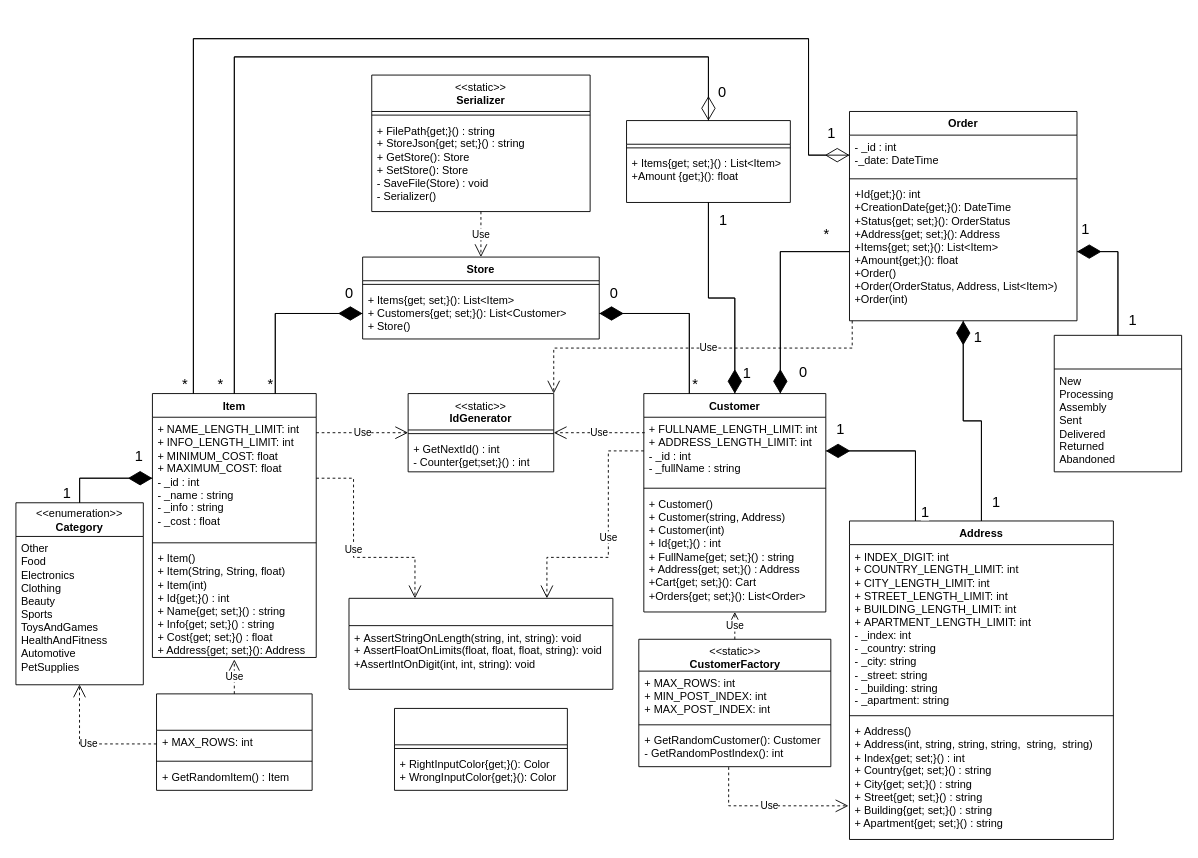
This 1198x858 diagram has some shape labels left out. Each missing label, with the box of its shape:
<<enumeration>> OrderStatus: (1053, 334, 1182, 472)
<<static>> AppColors: (394, 708, 567, 790)
<<static>> ItemFactory: (156, 693, 312, 790)
<<static>> ValueValidator: (348, 597, 613, 689)
Cart: (626, 120, 790, 202)
